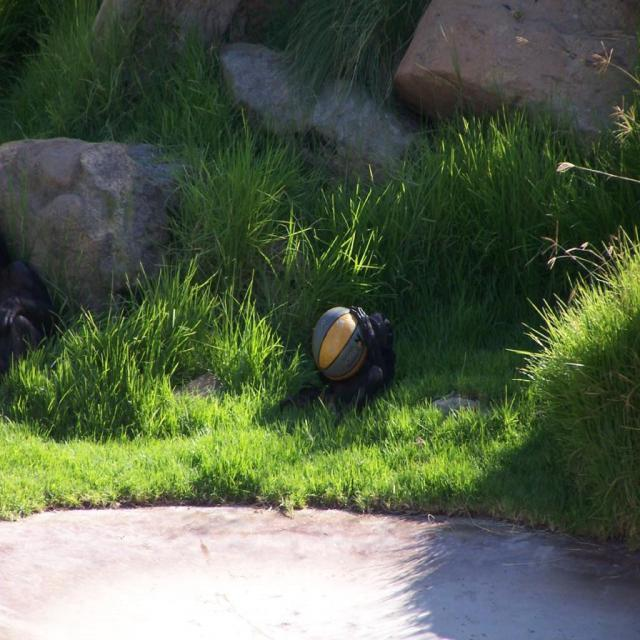football: (300, 281, 405, 392)
